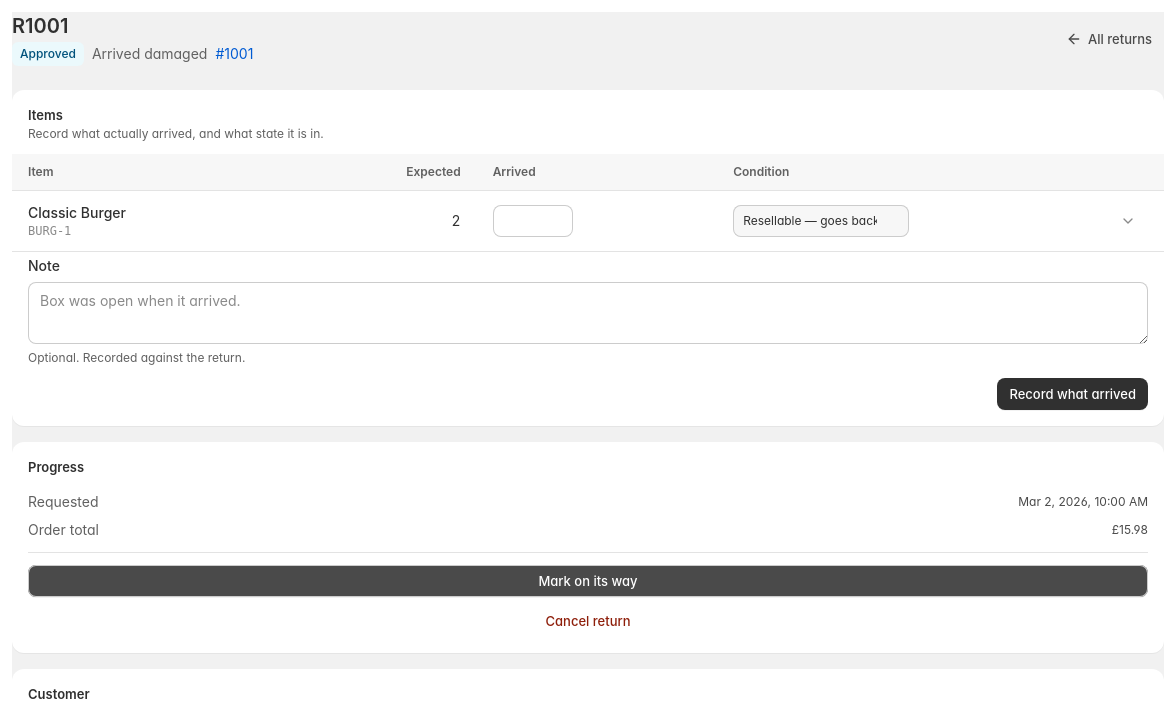
Scenario: ReturnDetailPage › clamps a received quantity to what was expected
The image size is (1176, 721).
Type "9" into the number field named "Quantity received".
click(533, 221); type("9")  # box [493,205,573,237]
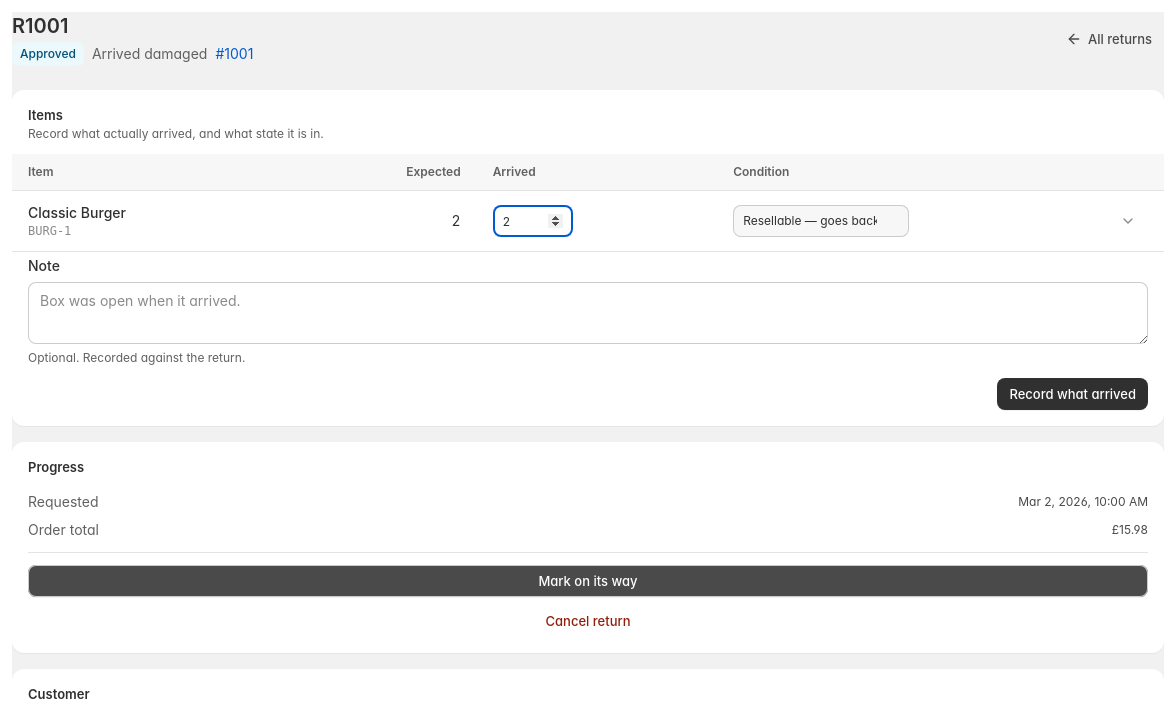
expect the number field named "Quantity received" holds "2": met, box [493,205,573,237]
